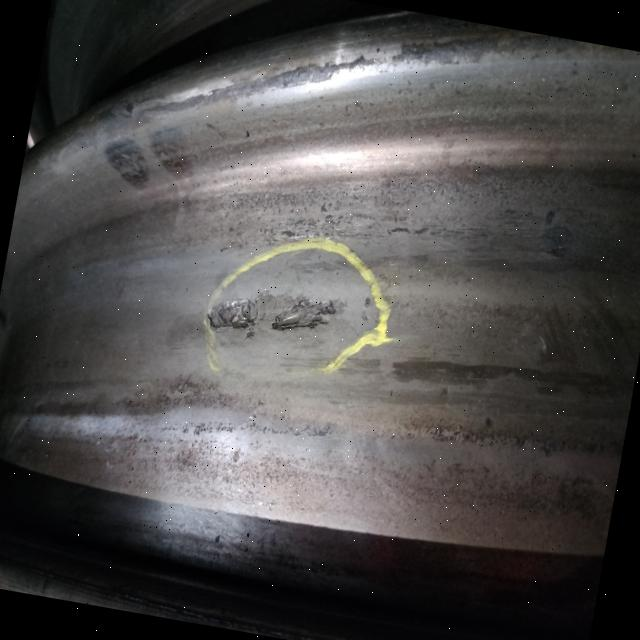Blue hole: (211, 531, 226, 549), (242, 528, 254, 543)
Contact_Fatigue_Cracks: (408, 201, 540, 264), (267, 209, 373, 254)
Peeling: (205, 276, 348, 358)
Rollerpile: (536, 208, 579, 271)
flat: (233, 388, 394, 468), (130, 393, 225, 454)
